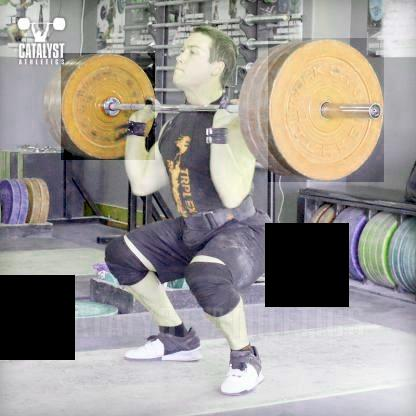barbell: (269, 39, 385, 183), (62, 54, 156, 160)
